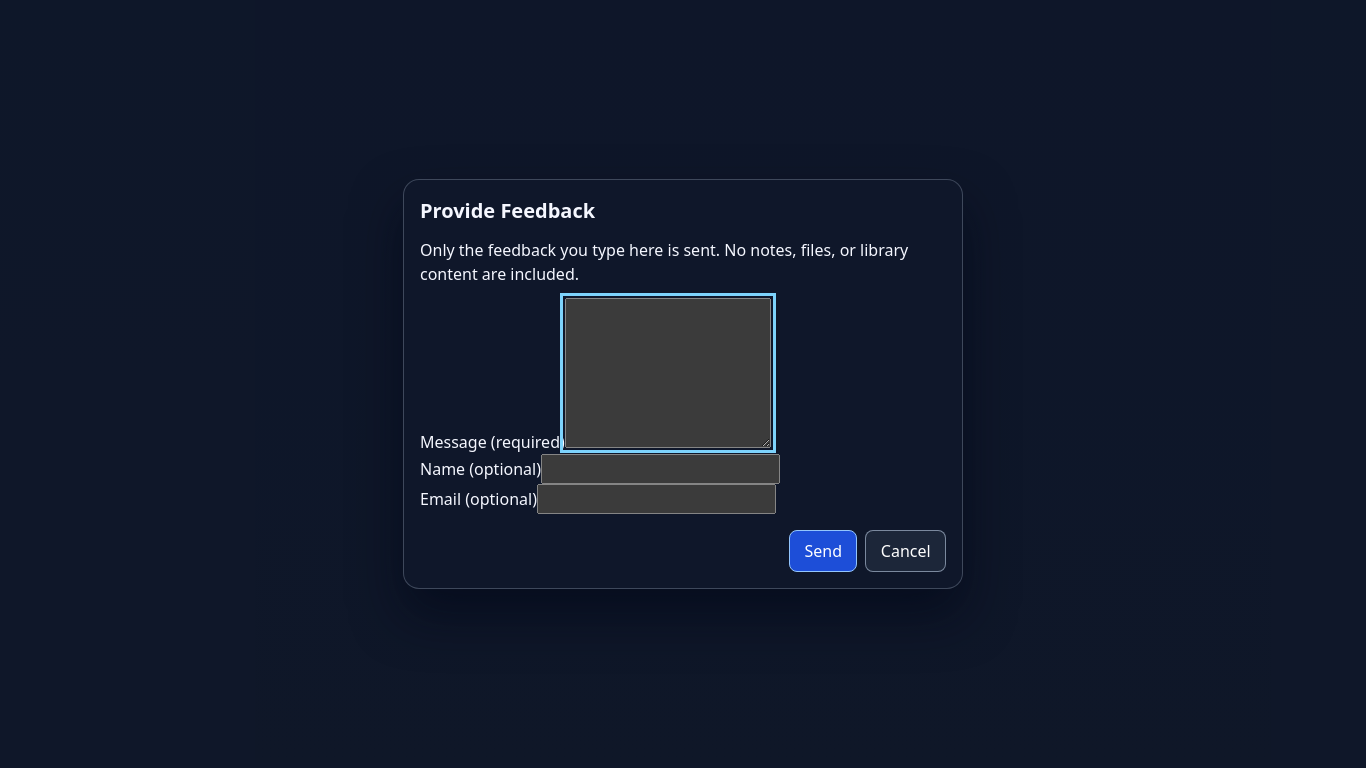
Feedback dialog › sends the message with project identification and reply-to, then confirms
The image size is (1366, 768).
Type "The tour helped." into the text box labelled "Message (required)".
click(668, 373); type("The tour helped.")  # box [565,298,771,448]
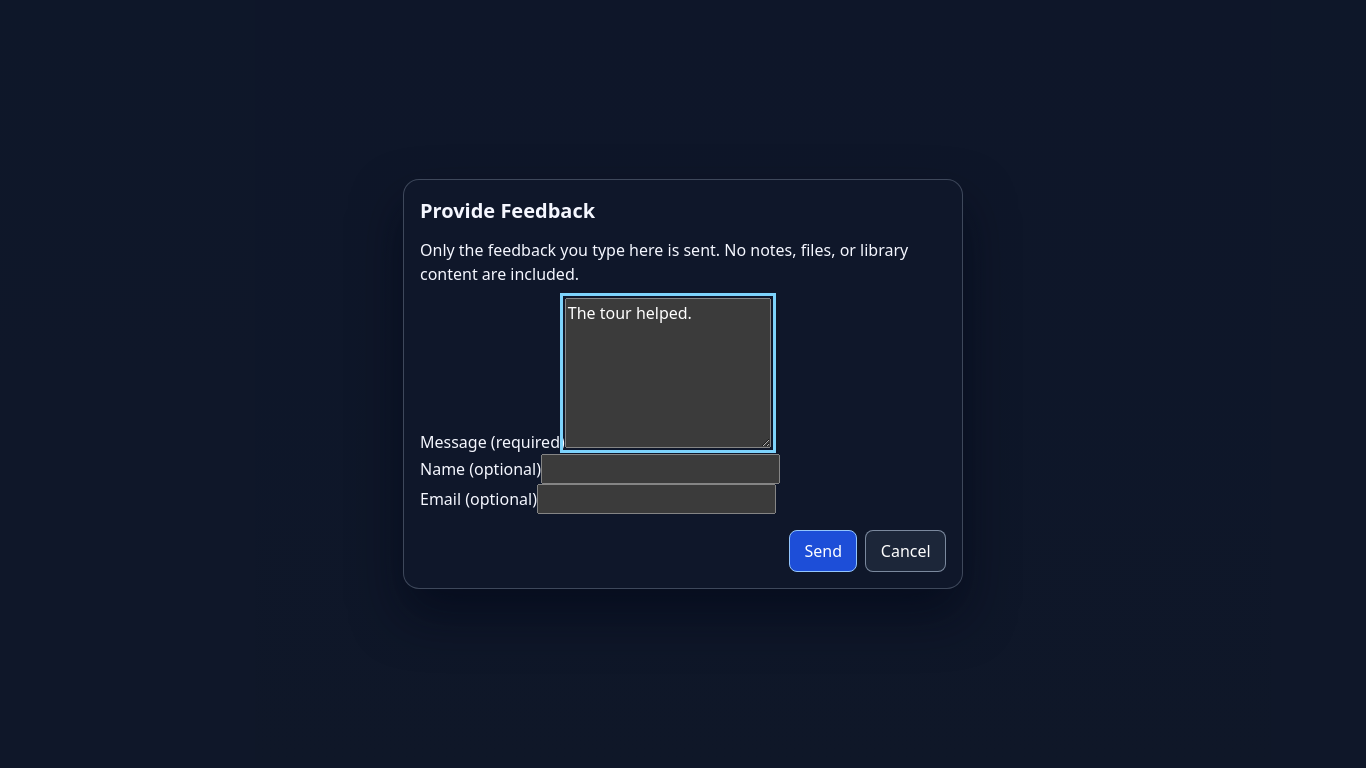
Type "Tester" into the field labelled "Name (optional)".
click(660, 469); type("Tester")  # box [541,454,780,484]
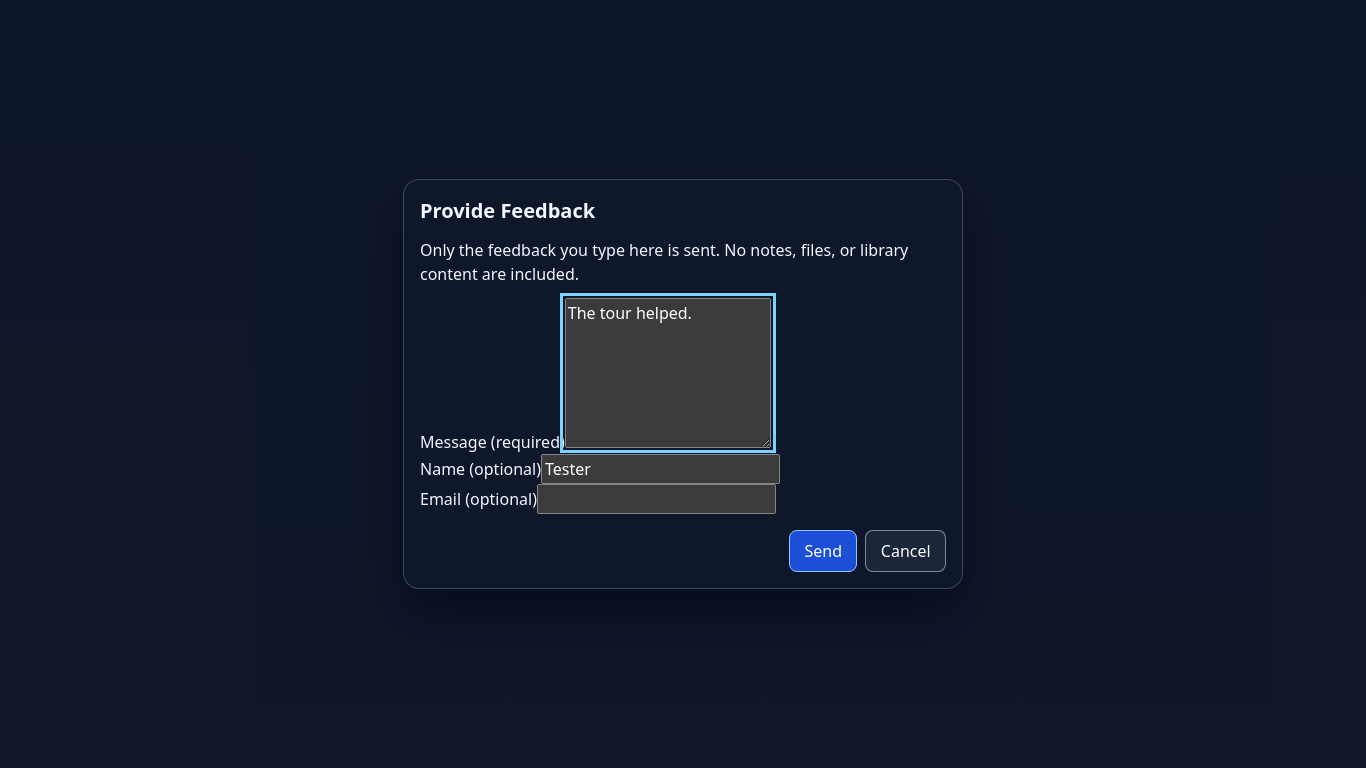
Type "tester@example.com" into the field labelled "Email (optional)".
click(656, 499); type("tester@example.com")  # box [537,484,776,514]
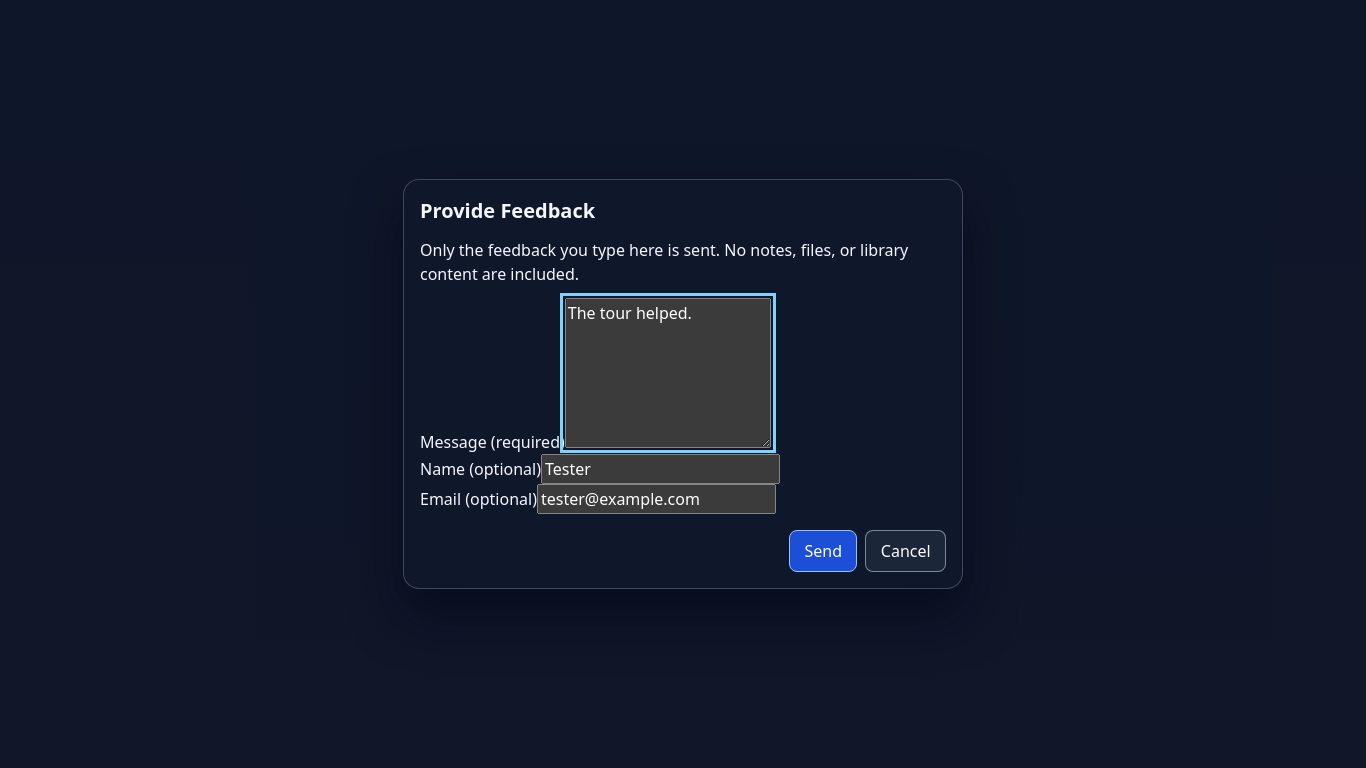
Click the button "Send".
click(823, 551)  # box [789,530,857,572]
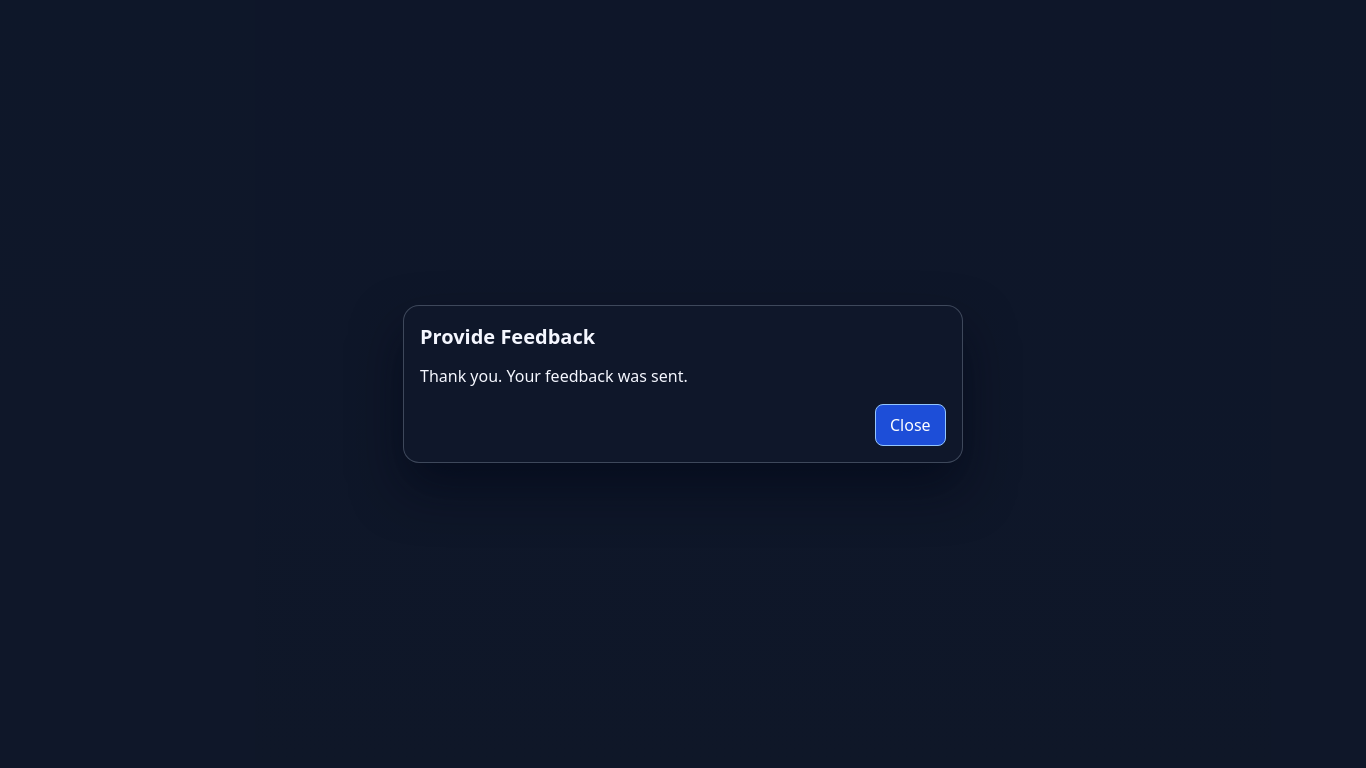
Check: the text "Thank you. Your feedback was sent." is shown, box [420,365,688,387]
